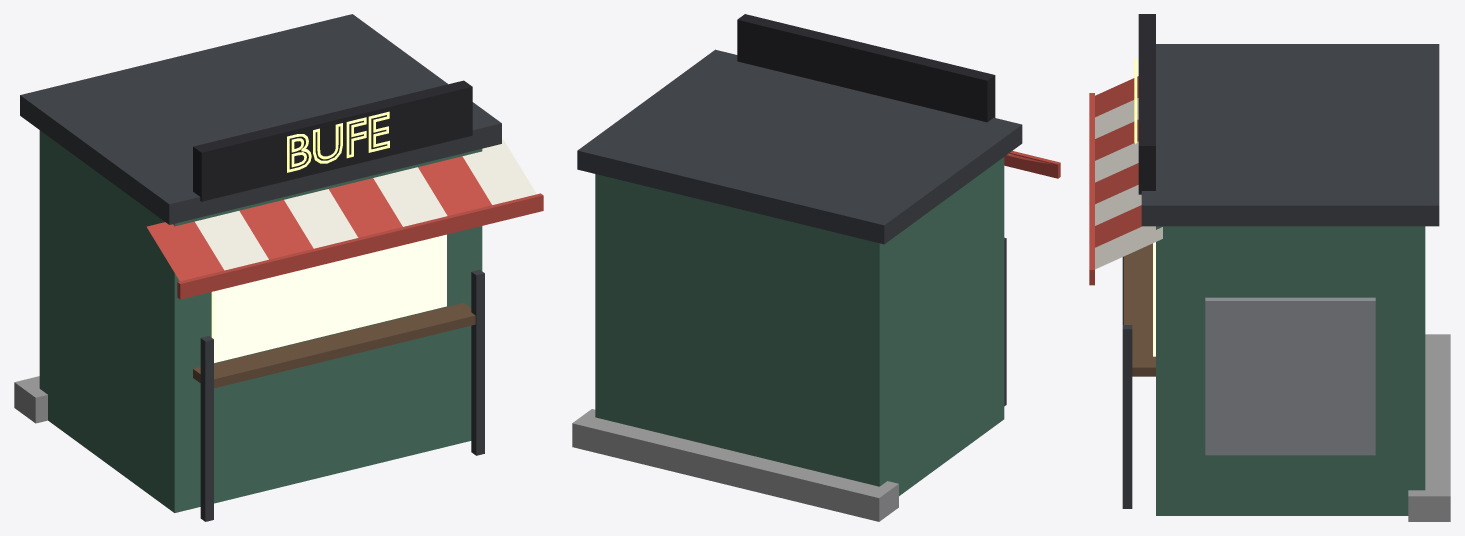
Rendered from prop_street_kiosk.glb.
The picture shows the model from 3 angles, left to right: view 1: azimuth 30°, elevation 25°; view 2: azimuth 150°, elevation 25°; view 3: azimuth 270°, elevation 25°; orthographic projection. The views are drawn at different scales.
Visible parts, largest first — view 1: kiosk_body, kiosk_trim, kiosk_awning, kiosk_window_glow, kiosk_sign_box, kiosk_sign_neon; view 2: kiosk_body, kiosk_trim, kiosk_sign_box, kiosk_awning; view 3: kiosk_trim, kiosk_body, kiosk_shutter, kiosk_awning, kiosk_sign_box.
Part boxes in pixels (left/top/right/bottom): kiosk_body: left=39, top=130, right=482, bottom=512; kiosk_trim: left=14, top=14, right=501, bottom=521; kiosk_awning: left=147, top=139, right=543, bottom=299; kiosk_window_glow: left=211, top=234, right=446, bottom=362; kiosk_sign_box: left=193, top=80, right=472, bottom=201; kiosk_sign_neon: left=287, top=111, right=389, bottom=172; kiosk_body: left=595, top=157, right=1004, bottom=495; kiosk_trim: left=572, top=49, right=1022, bottom=521; kiosk_sign_box: left=737, top=14, right=995, bottom=122; kiosk_awning: left=1004, top=151, right=1060, bottom=178; kiosk_trim: left=1122, top=44, right=1450, bottom=521; kiosk_body: left=1156, top=226, right=1425, bottom=515; kiosk_shutter: left=1205, top=297, right=1375, bottom=455; kiosk_awning: left=1089, top=76, right=1162, bottom=285; kiosk_sign_box: left=1138, top=14, right=1155, bottom=194.
Size of the model in its own units: 2.95 by 2.81 by 2.55.
